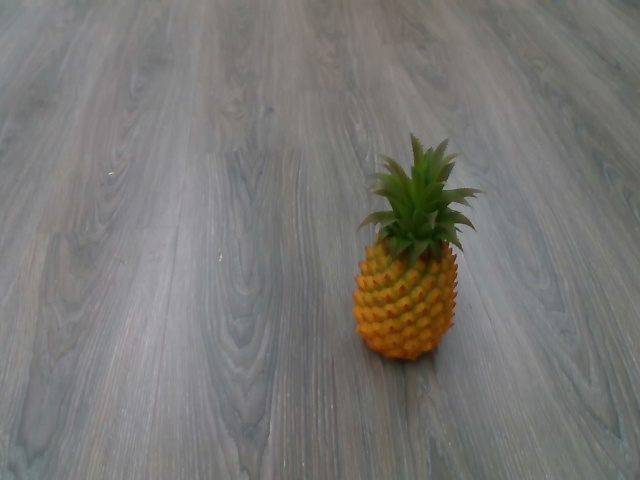pineapple: (351, 128, 481, 367)
